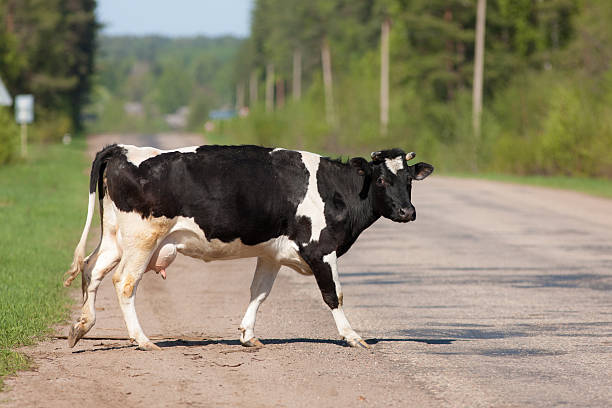inek: (45, 132, 431, 365)
